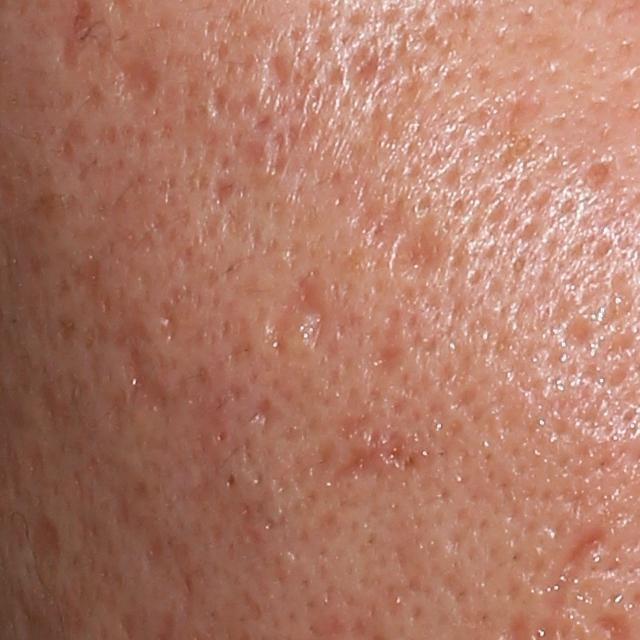atrophic_scar: (327, 435, 432, 488), (265, 272, 327, 356), (387, 220, 447, 286), (107, 56, 168, 120), (543, 528, 608, 586), (122, 352, 171, 414), (498, 87, 552, 137), (371, 309, 403, 377), (343, 42, 384, 94), (44, 121, 86, 165), (254, 393, 290, 438), (205, 86, 247, 121), (561, 309, 595, 352), (32, 514, 61, 562), (578, 155, 610, 194), (192, 211, 224, 246), (271, 133, 295, 178), (266, 49, 289, 89), (240, 136, 267, 169), (81, 76, 104, 112), (158, 303, 177, 341), (210, 177, 235, 203), (225, 471, 236, 490)
